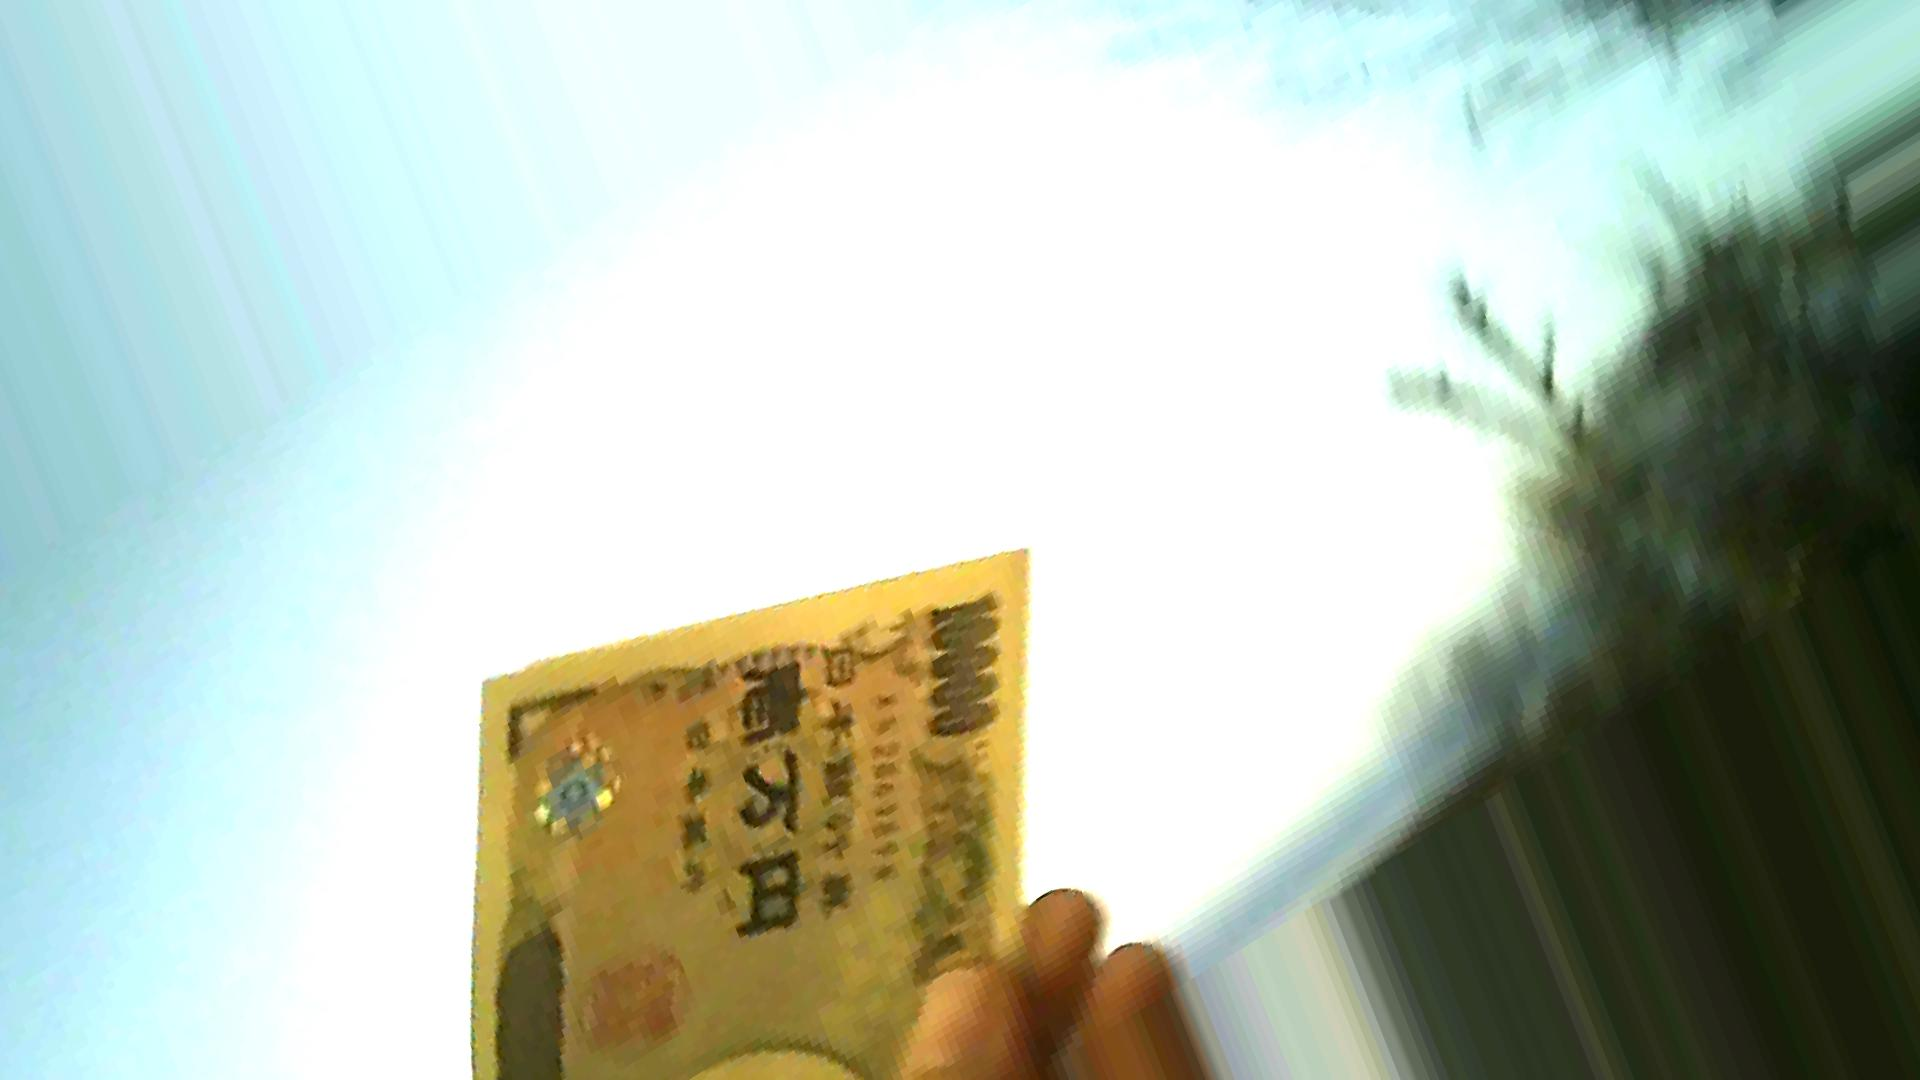10,000 Yen: (458, 543, 1065, 1065)
